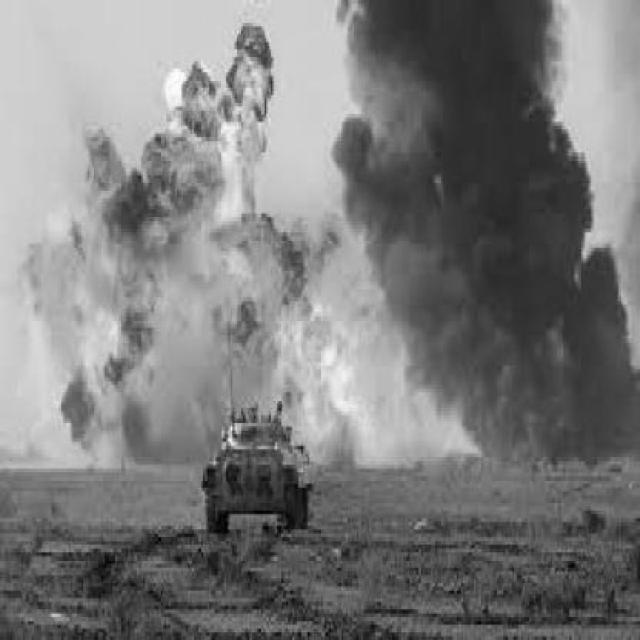Tank: (200, 392, 314, 532)
